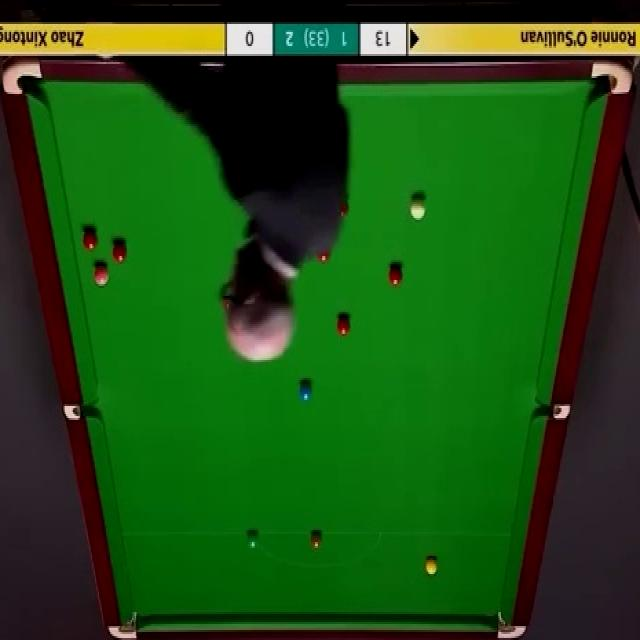blue-ball: (298, 382, 313, 403)
brown-ball: (310, 530, 323, 550)
green-ball: (246, 531, 258, 548)
pink-ball: (93, 262, 109, 288)
red-ball: (387, 261, 404, 288), (83, 226, 100, 250), (334, 196, 351, 220), (110, 240, 126, 264), (336, 314, 351, 336), (316, 246, 332, 263)
white-ball: (410, 195, 426, 219)
yellow-ball: (424, 554, 437, 575)
